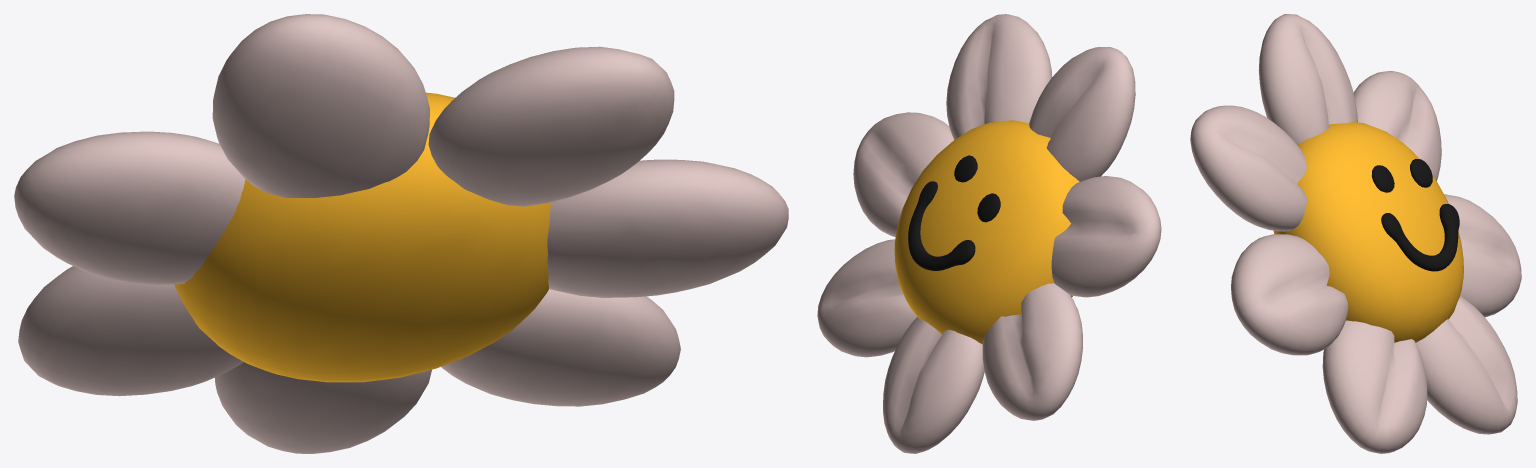
Rendered from sunflower-draco.glb.
3 views of the same model, side by side, from view 1: azimuth 30°, elevation 25°; view 2: azimuth 150°, elevation 25°; view 3: azimuth 270°, elevation 25° (orthographic). The views are drawn at different scales.
Parts seen in each view (by area): view 1: Cube; view 2: Cube; view 3: Cube.
Part boxes in pixels (x1=…): Cube: x1=14, y1=14, x2=788, y2=453; Cube: x1=817, y1=14, x2=1161, y2=453; Cube: x1=1190, y1=14, x2=1521, y2=453.
Bounding box in the file's own units: 5.9 × 5.35 × 4.44.
